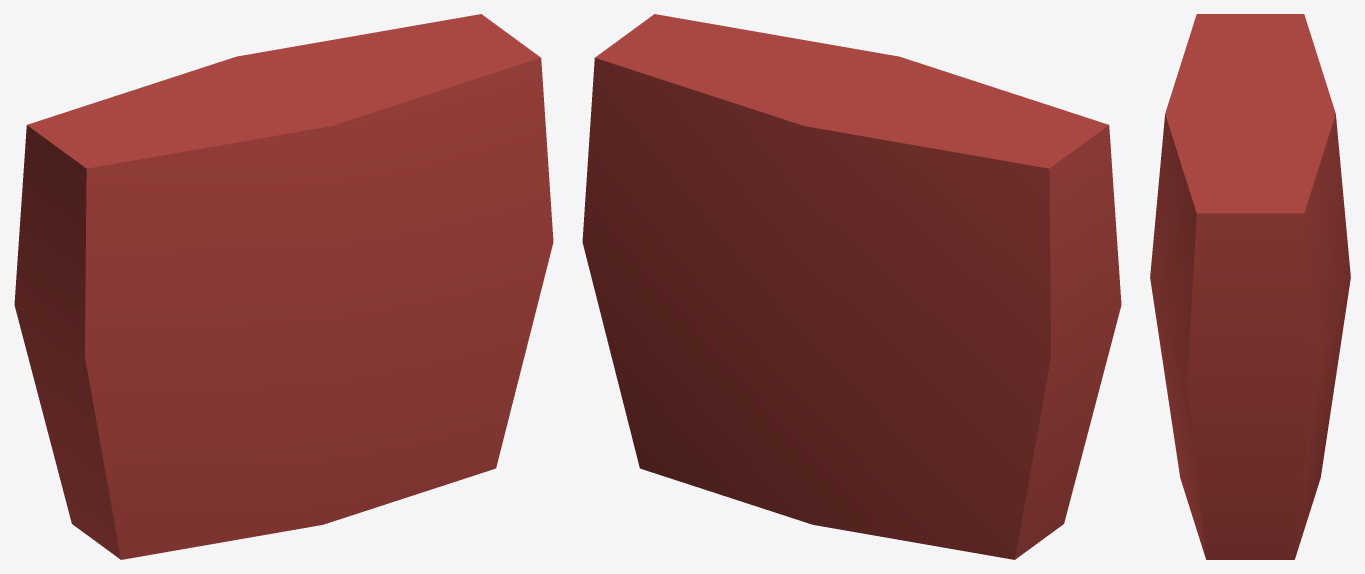
The model's file is throw_over_lod2.glb.
3 renders of one model, left to right at view 1: azimuth 30°, elevation 25°; view 2: azimuth 150°, elevation 25°; view 3: azimuth 270°, elevation 25°, orthographic. The views are drawn at different scales.
Visible parts, largest first — view 1: throw_over_lod2; view 2: throw_over_lod2; view 3: throw_over_lod2.
Part boxes in pixels (<box>): throw_over_lod2: <box>14,14,553,559</box>; throw_over_lod2: <box>582,14,1121,559</box>; throw_over_lod2: <box>1150,14,1350,559</box>.
Size of the model in its own units: 0.3634 by 0.3 by 0.15.
